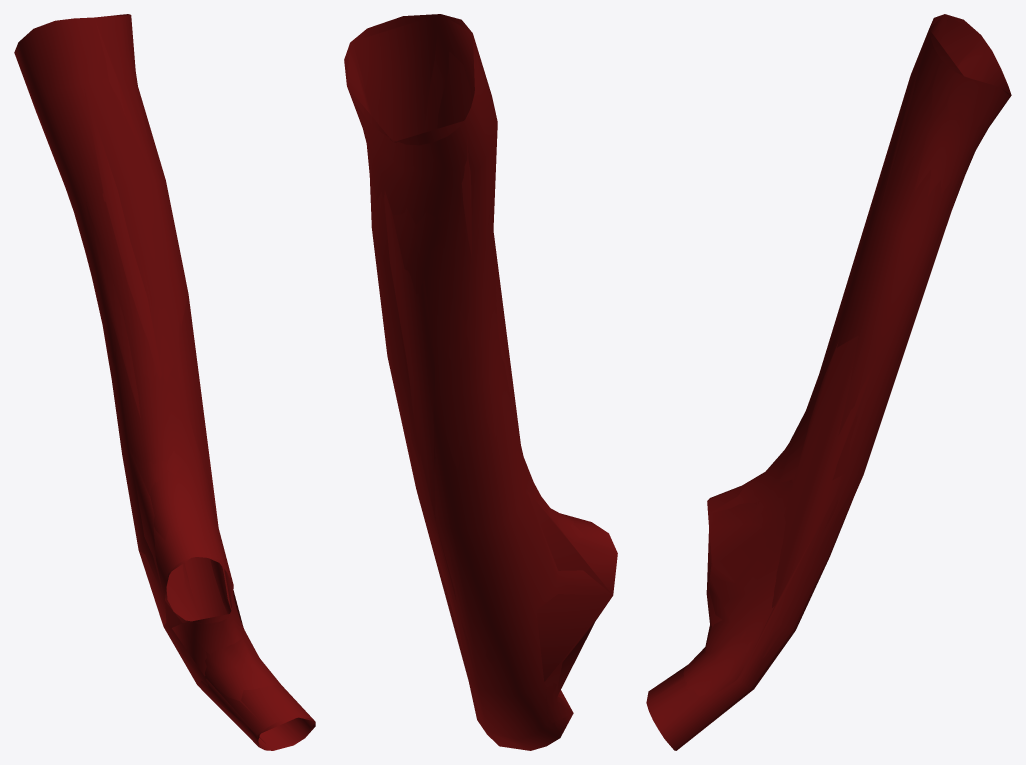
Rendered from L truncus linguofacialis.fbx.
3 renders of one model, left to right at view 1: azimuth 30°, elevation 25°; view 2: azimuth 150°, elevation 25°; view 3: azimuth 270°, elevation 25°, orthographic. The views are drawn at different scales.
Parts seen in each view (by area): view 1: L truncus linguofacialis, L truncus linguofacialis high, L truncus linguofacialis low; view 2: L truncus linguofacialis, L truncus linguofacialis low, L truncus linguofacialis high; view 3: L truncus linguofacialis, L truncus linguofacialis high, L truncus linguofacialis low.
Boxes of the visible parts, x1=… form: L truncus linguofacialis: x1=14, y1=14, x2=315, y2=750; L truncus linguofacialis high: x1=59, y1=14, x2=315, y2=750; L truncus linguofacialis low: x1=83, y1=14, x2=315, y2=750; L truncus linguofacialis: x1=344, y1=14, x2=617, y2=750; L truncus linguofacialis low: x1=347, y1=14, x2=612, y2=735; L truncus linguofacialis high: x1=345, y1=15, x2=595, y2=748; L truncus linguofacialis: x1=646, y1=14, x2=1011, y2=750; L truncus linguofacialis high: x1=683, y1=15, x2=1010, y2=738; L truncus linguofacialis low: x1=684, y1=14, x2=1011, y2=742.
Bounding box in the file's own units: 1.22 × 5.31 × 2.57.
